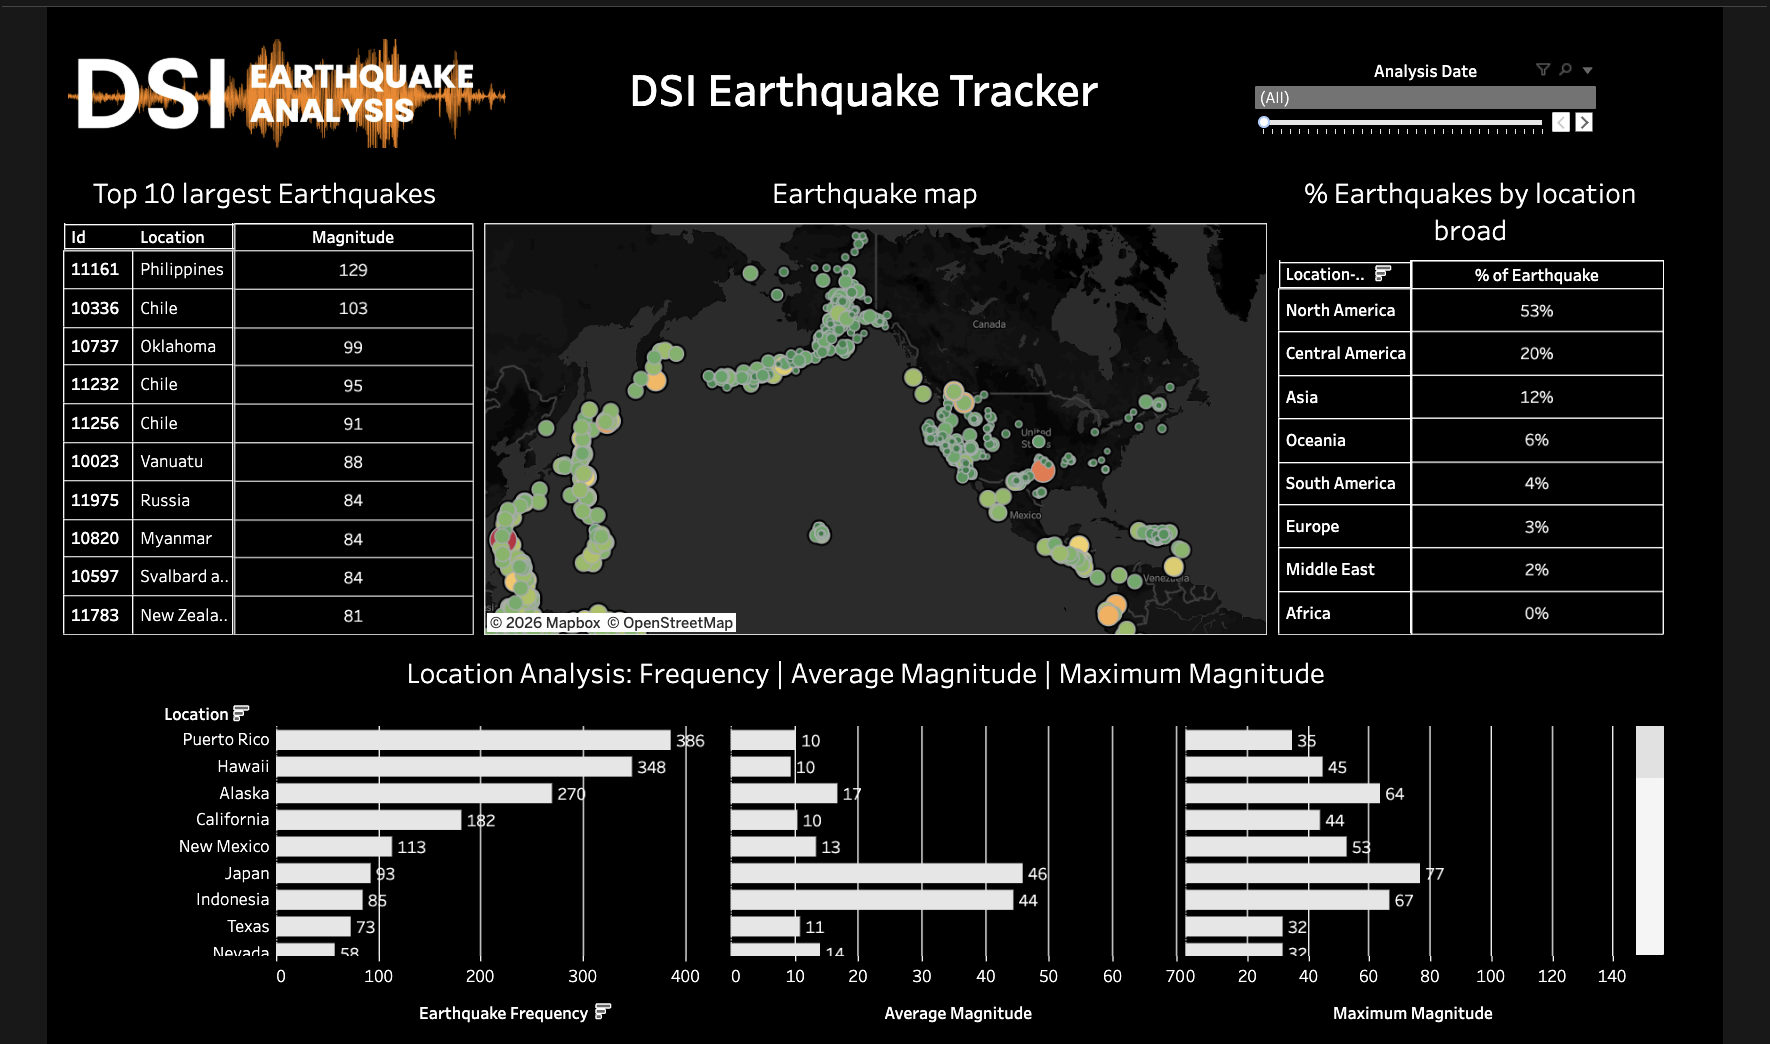

The dashboard page shown, as its layout file describes it:
{"tool":"tableau","page":{"name":"DSI Earthquake Tracker","canvas":[1000,1000],"units":"permille","ordinal":0},"visuals":[{"type":"title","box":[6.4,11.8,961.4,157.6]},{"type":"image","param":"Image/DSI Earthquake Logo.png","box":[12.9,30.9,260.7,122.2]},{"type":"filter","title":"Location chart triple","param":"[federated.1ldz4hn02b9ytw10ndicn0h3kp19].[md:datetime:ok]","box":[720,50.1,205.2,110.5]},{"type":"worksheet","title":"Top 10 largest Earthquakes ","mark":"Automatic","rows":["id","location"],"box":[6.4,169.4,251.5,449.2]},{"type":"worksheet","title":"Earthquake map","mark":"Automatic","rows":["latitude"],"cols":["longitude"],"box":[257.9,169.4,472.9,449.2]},{"type":"worksheet","title":"% Earthquakes by location broad","mark":"Automatic","rows":["location-broad"],"box":[730.9,169.4,237,449.2]},{"type":"worksheet","title":"Location chart triple","mark":"Automatic","rows":["location"],"cols":["Calculation_3508329631174656","magnitude","magnitude"],"box":[6.4,618.6,961.4,369.7]}]}

Visuals, with their boxes on the dashboard's canvas, which has no fixed pixel size, in thousandths of its width and height (x1, y1, x2, y2). These are canvas units, not pixel positions in the 1770x1044 screenshot, which may show the page scaled, cropped or inside an application window:
title: {"left": 6, "top": 12, "right": 968, "bottom": 169}
image: {"left": 13, "top": 31, "right": 274, "bottom": 153}
"Location chart triple" filter: {"left": 720, "top": 50, "right": 925, "bottom": 161}
"Top 10 largest Earthquakes " worksheet: {"left": 6, "top": 169, "right": 258, "bottom": 619}
"Earthquake map" worksheet: {"left": 258, "top": 169, "right": 731, "bottom": 619}
"% Earthquakes by location broad" worksheet: {"left": 731, "top": 169, "right": 968, "bottom": 619}
"Location chart triple" worksheet: {"left": 6, "top": 619, "right": 968, "bottom": 988}
